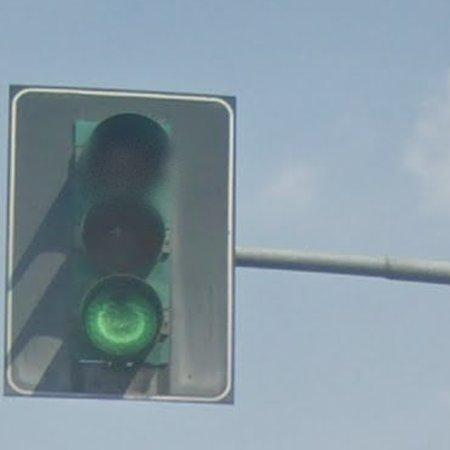traffic lights: (68, 112, 174, 370)
